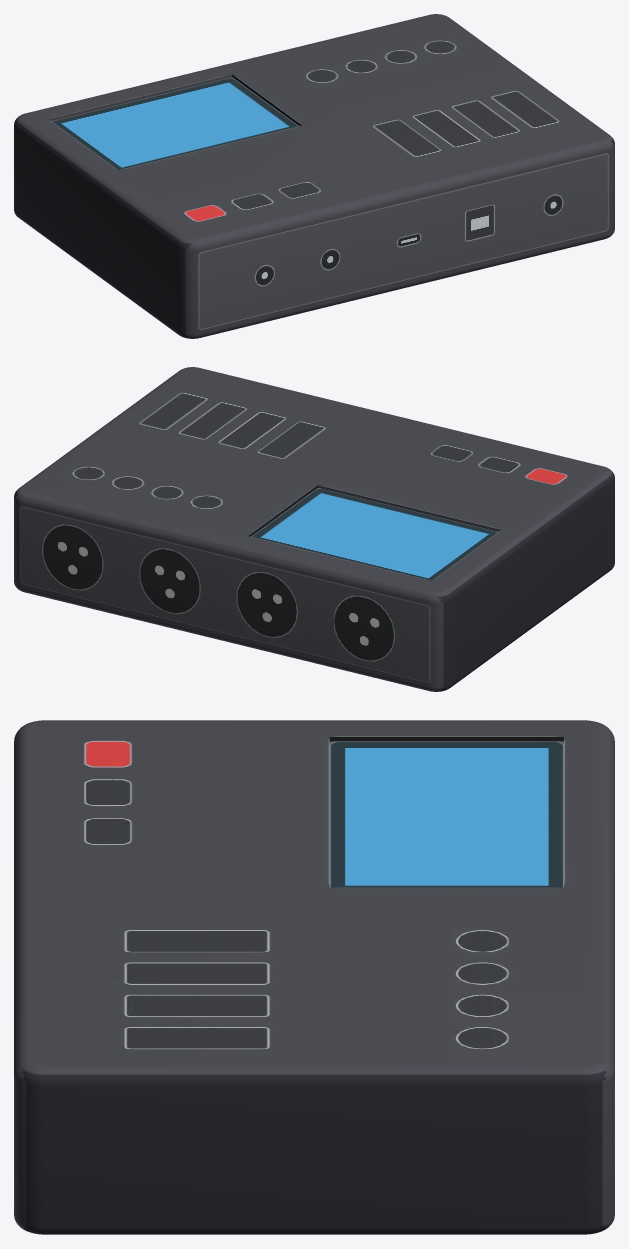
The model's file is sound-devices-mixpre-6-ii.glb.
3 views of the same model, one above another, from view 1: azimuth 30°, elevation 25°; view 2: azimuth 150°, elevation 25°; view 3: azimuth 270°, elevation 25° (orthographic). The views are drawn at different scales.
Parts seen in each view (by area): view 1: sound-devices-mixpre-6-ii-body; view 2: sound-devices-mixpre-6-ii-body; view 3: sound-devices-mixpre-6-ii-body.
Boxes of the visible parts, x1,y1,x2,y2 form: sound-devices-mixpre-6-ii-body: (14,14,614,338); sound-devices-mixpre-6-ii-body: (14,367,614,691); sound-devices-mixpre-6-ii-body: (14,720,614,1234).
Bounding box in the file's own units: 0.166 × 0.036 × 0.118.
Materials: 1 (1 with a texture image).
